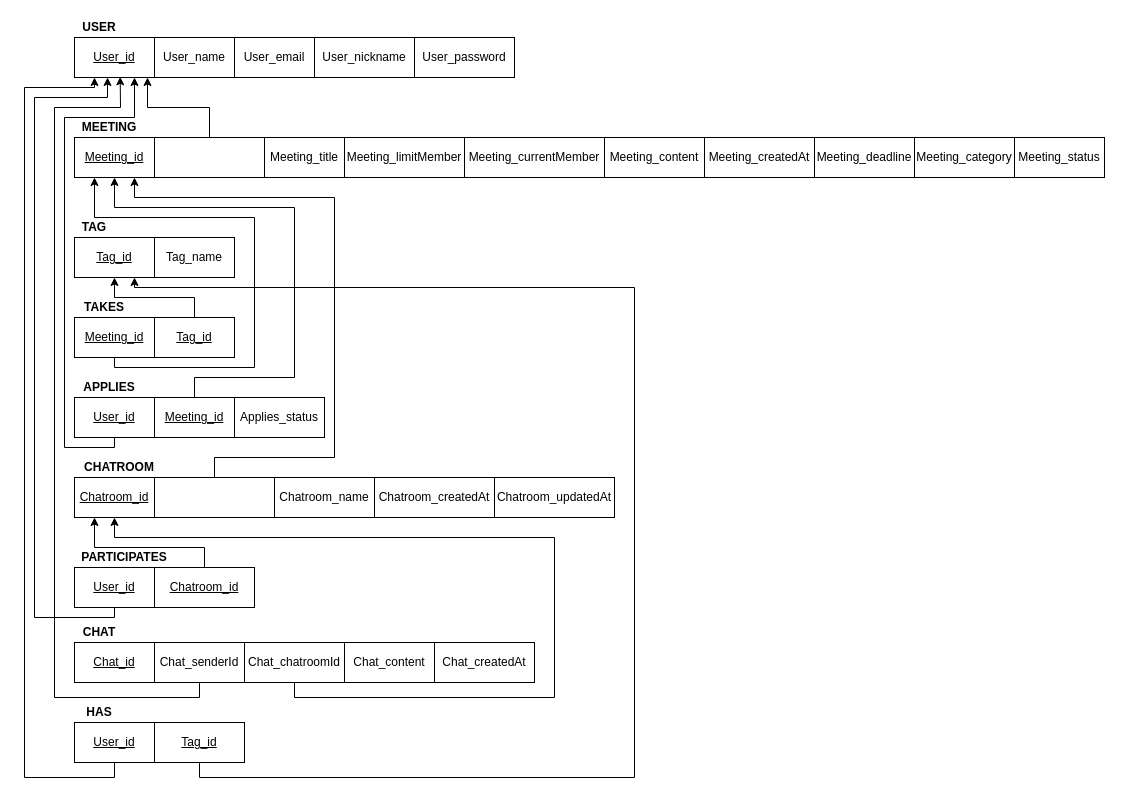
This 1122x803 diagram has some shape labels left out. Here are the shapes that lost their labels. From the top down, the box of each, then its label:
(154, 136, 264, 178): Meeting_createrId
(154, 476, 274, 518): Chatroom_meetingId
